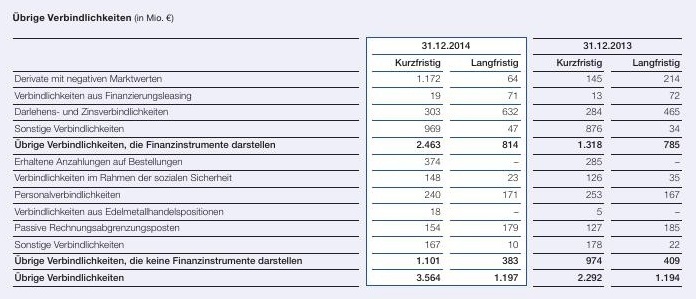table: (0, 0, 696, 299)
